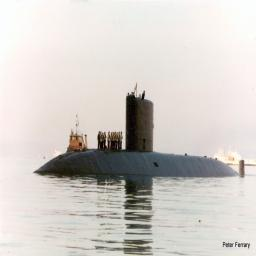submarine: (33, 94, 246, 178)
